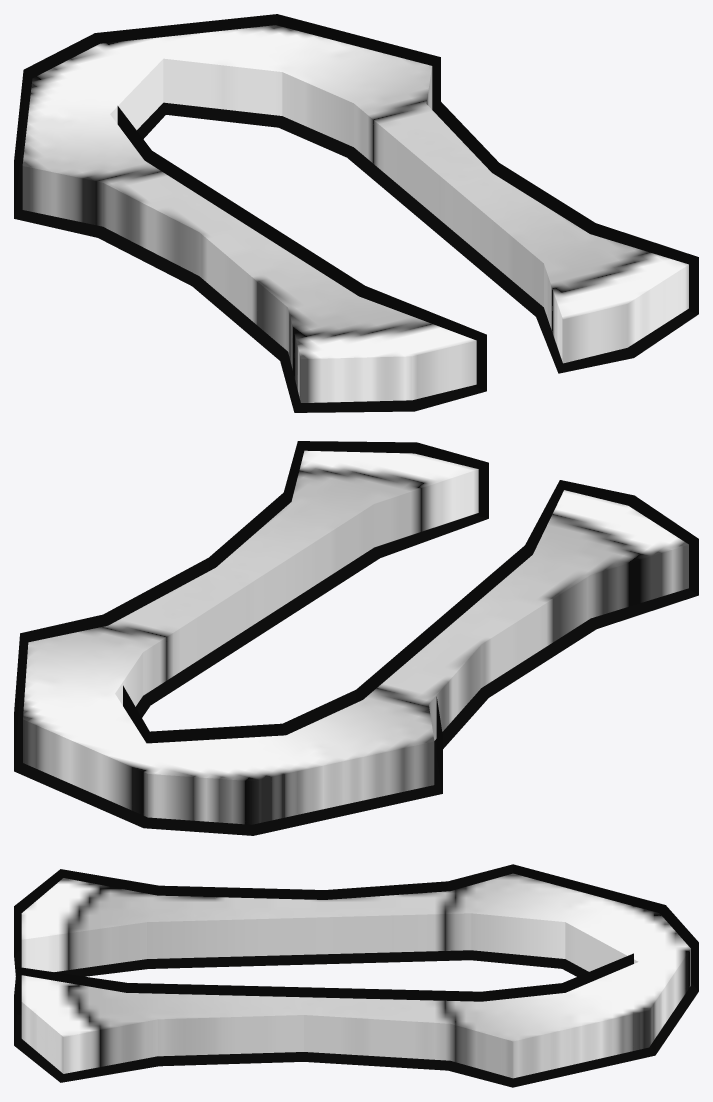
The model's file is Item_Apparel_RobeRoyal_Things_Pawn_Humanlike_Apparel_RoyalRobe_RoyalRobe_Thin.glb.
The picture shows the model from 3 angles, top to bottom: view 1: azimuth 30°, elevation 25°; view 2: azimuth 150°, elevation 25°; view 3: azimuth 270°, elevation 25°; orthographic projection. The views are drawn at different scales.
Parts seen in each view (by area): view 1: Body, Outline; view 2: Body, Outline; view 3: Body, Outline.
Part boxes in pixels (left/top/right/bottom): Body: left=22, top=25, right=688, bottom=402; Outline: left=14, top=14, right=698, bottom=412; Body: left=23, top=450, right=688, bottom=824; Outline: left=14, top=441, right=698, bottom=835; Body: left=21, top=873, right=690, bottom=1078; Outline: left=14, top=864, right=698, bottom=1087.
Bounding box in the file's own units: 0.3093 × 0.0444 × 0.5117.
Materials: 2 (1 with a texture image).
